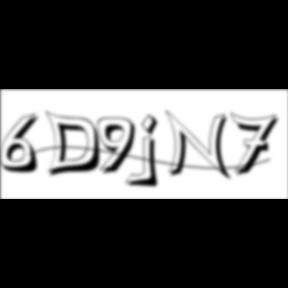6: (0, 112, 46, 176)
7: (231, 111, 286, 179)
9: (98, 117, 142, 177)
D: (44, 110, 108, 180)
N: (165, 109, 235, 183)
j: (138, 113, 166, 191)
